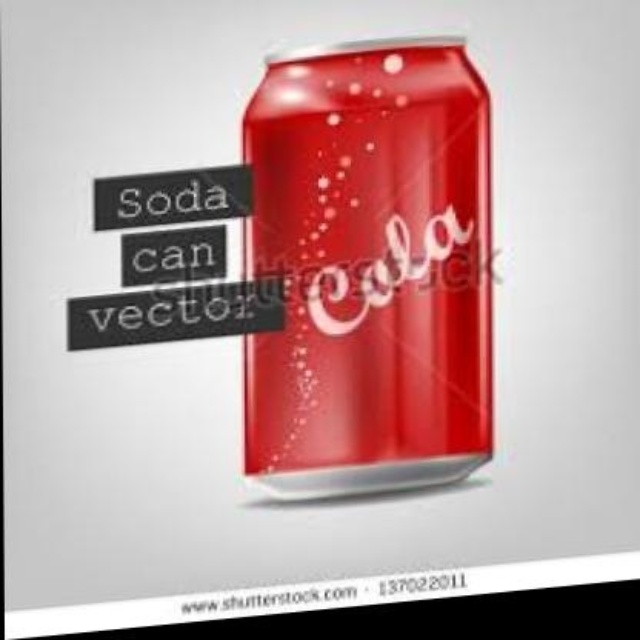trash: (243, 43, 491, 498)
